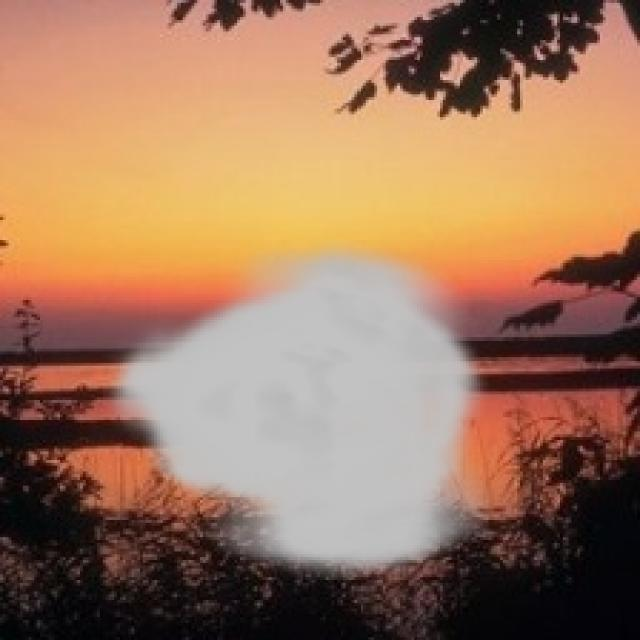Smoke: (102, 235, 488, 580)
